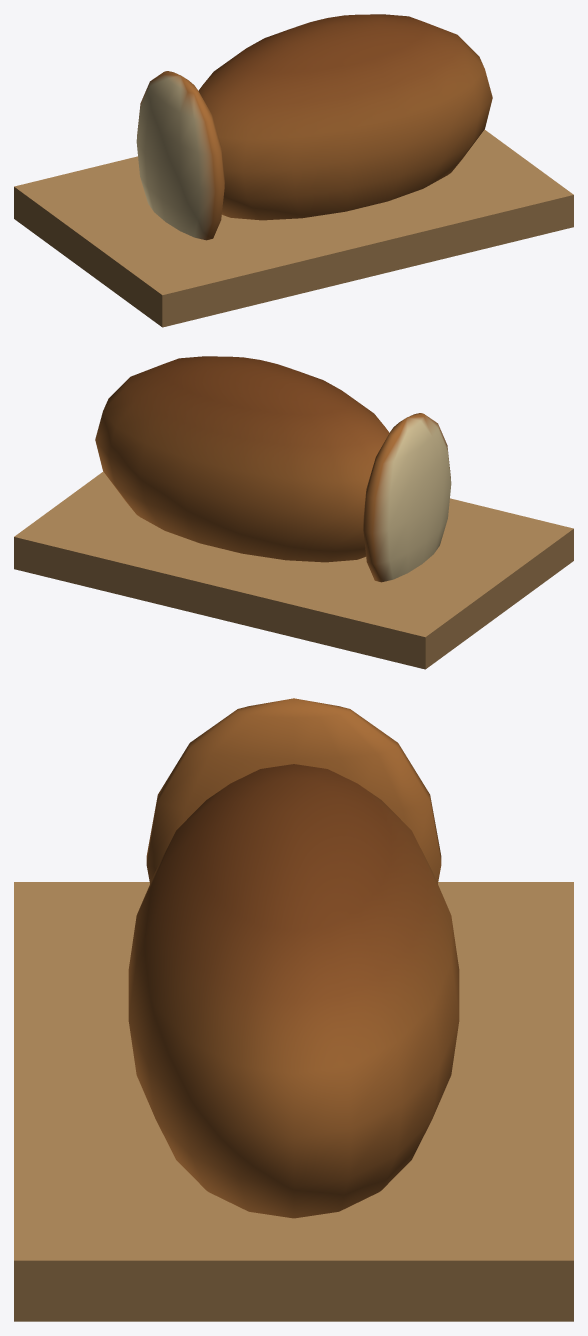
File: Hut_Bread.fbx
3 views of the same model, one above another, from view 1: azimuth 30°, elevation 25°; view 2: azimuth 150°, elevation 25°; view 3: azimuth 270°, elevation 25° (orthographic). The views are drawn at different scales.
Parts seen in each view (by area): view 1: Hut_Bread; view 2: Hut_Bread; view 3: Hut_Bread.
Boxes of the visible parts, bbox=[...] form: Hut_Bread: bbox=[14, 14, 573, 327]; Hut_Bread: bbox=[14, 356, 573, 669]; Hut_Bread: bbox=[14, 698, 573, 1321].
Bounding box in the file's own units: 16 × 7.2 × 10.
